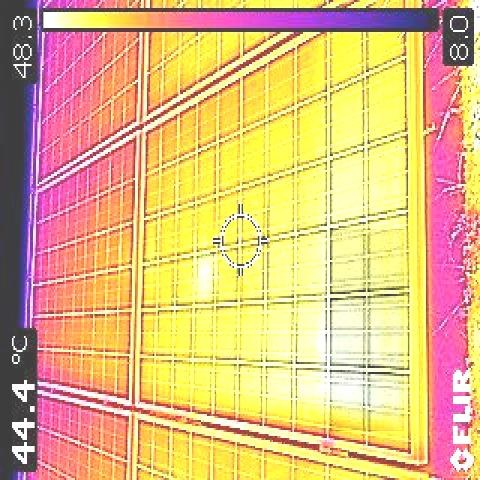fault: (330, 229, 404, 431), (197, 255, 214, 303)
